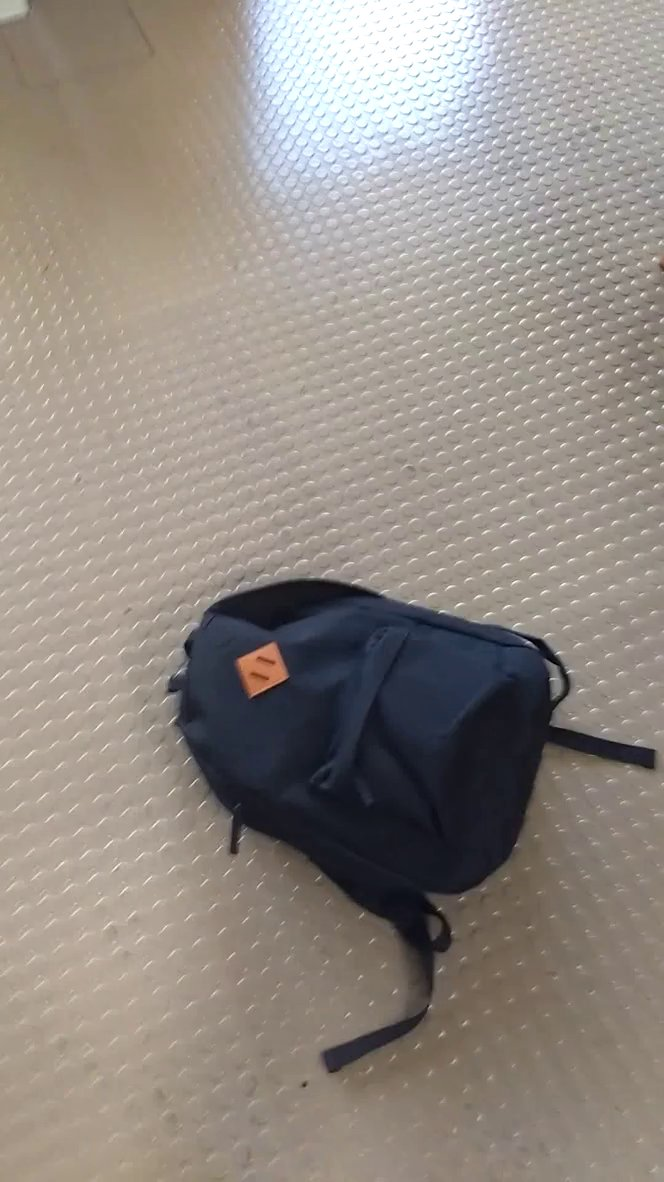bag: (160, 566, 658, 1083)
